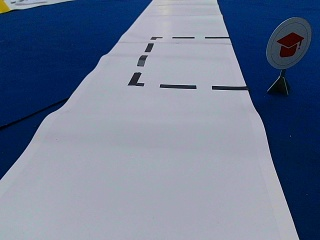school: (266, 17, 311, 68)
